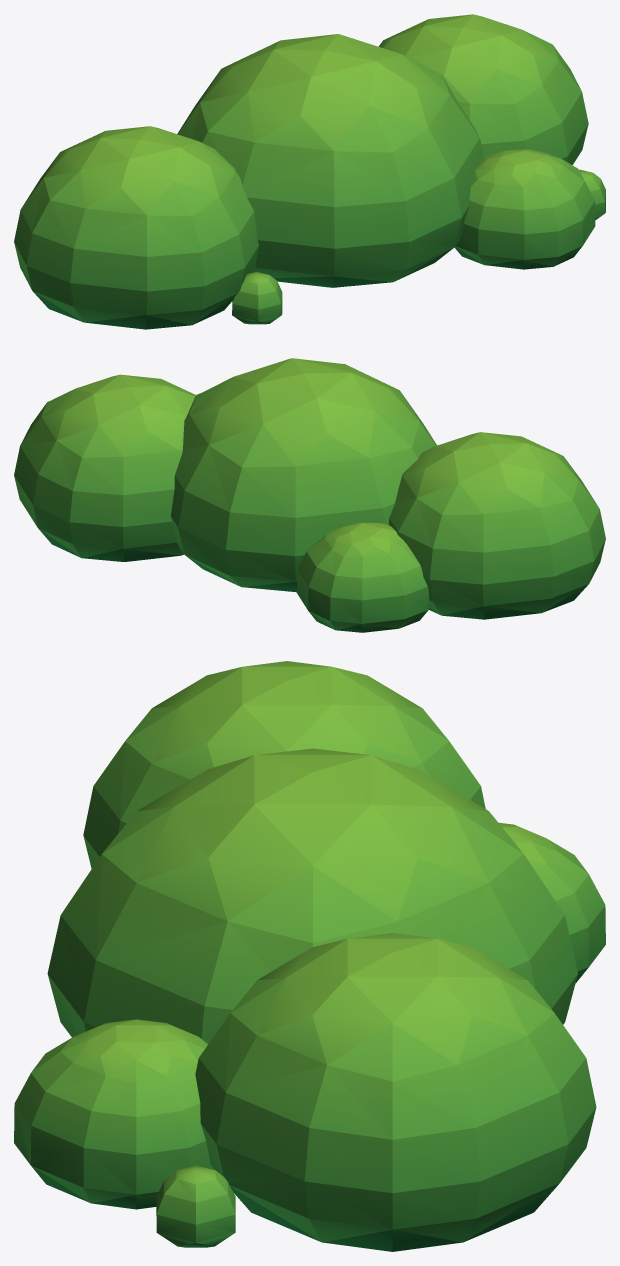
The model's file is kf_bush_1_g.fbx.
The picture shows the model from 3 angles, top to bottom: view 1: azimuth 30°, elevation 25°; view 2: azimuth 150°, elevation 25°; view 3: azimuth 270°, elevation 25°; orthographic projection. The views are drawn at different scales.
Parts seen in each view (by area): view 1: kf_bush_1_g_LOD0; view 2: kf_bush_1_g_LOD0; view 3: kf_bush_1_g_LOD0.
Part boxes in pixels (x1,y1,x2,y2): kf_bush_1_g_LOD0: (14,14,605,329); kf_bush_1_g_LOD0: (14,358,605,632); kf_bush_1_g_LOD0: (14,661,605,1251).
Size of what is drawn, in the model's own units: 4.97 by 1.59 by 2.8.
